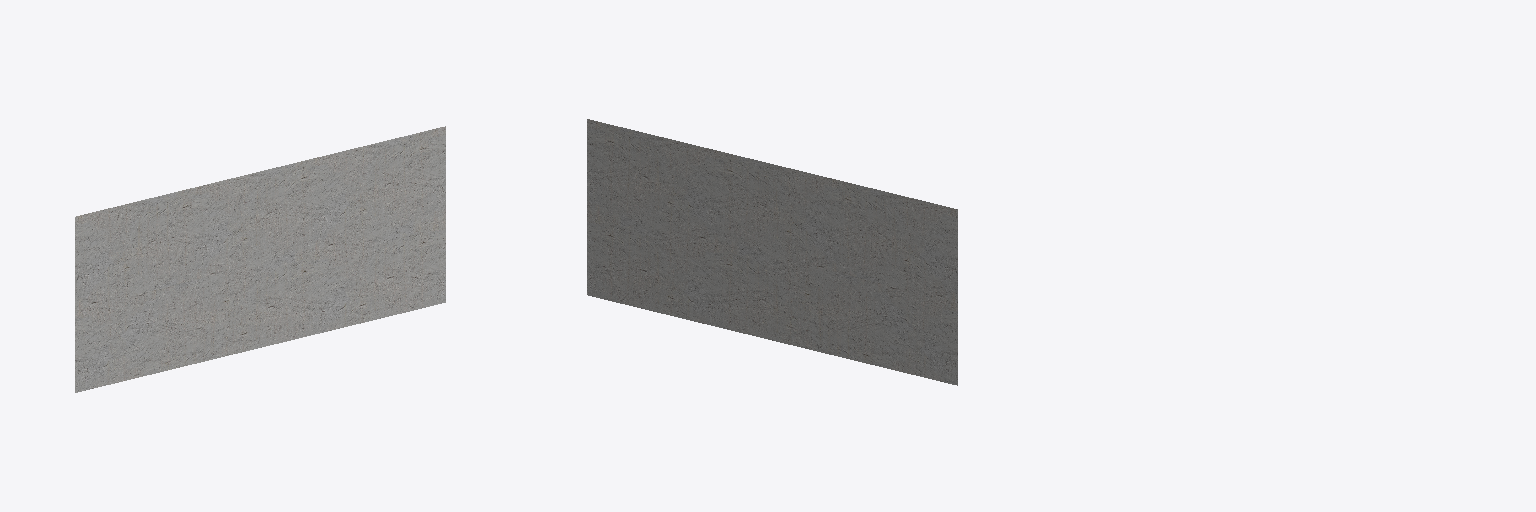
3 renders of one model, left to right at view 1: azimuth 30°, elevation 25°; view 2: azimuth 150°, elevation 25°; view 3: azimuth 270°, elevation 25°, orthographic.
Parts seen in each view (by area): view 1: Cube; view 2: Cube; view 3: none.
Boxes of the visible parts, box(x1,y1,x2,y2) form: Cube: box(75, 126, 445, 392); Cube: box(587, 119, 957, 385).
Size of the model in its own units: 11 by 5 by 0.5.
1 materials, 1 textured.